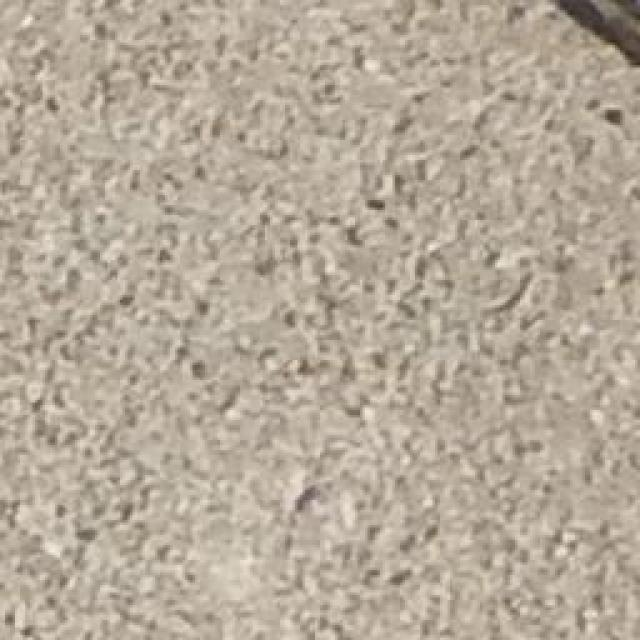concrete-crack: (542, 0, 640, 80)
